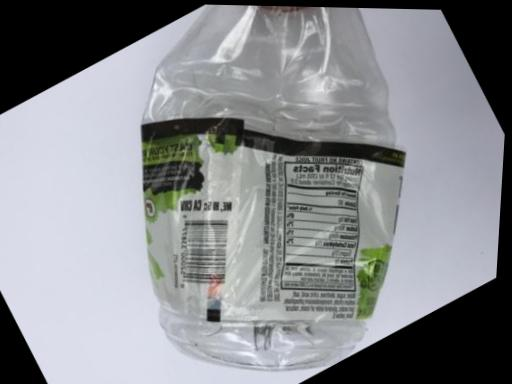plastic: (0, 6, 503, 383)
